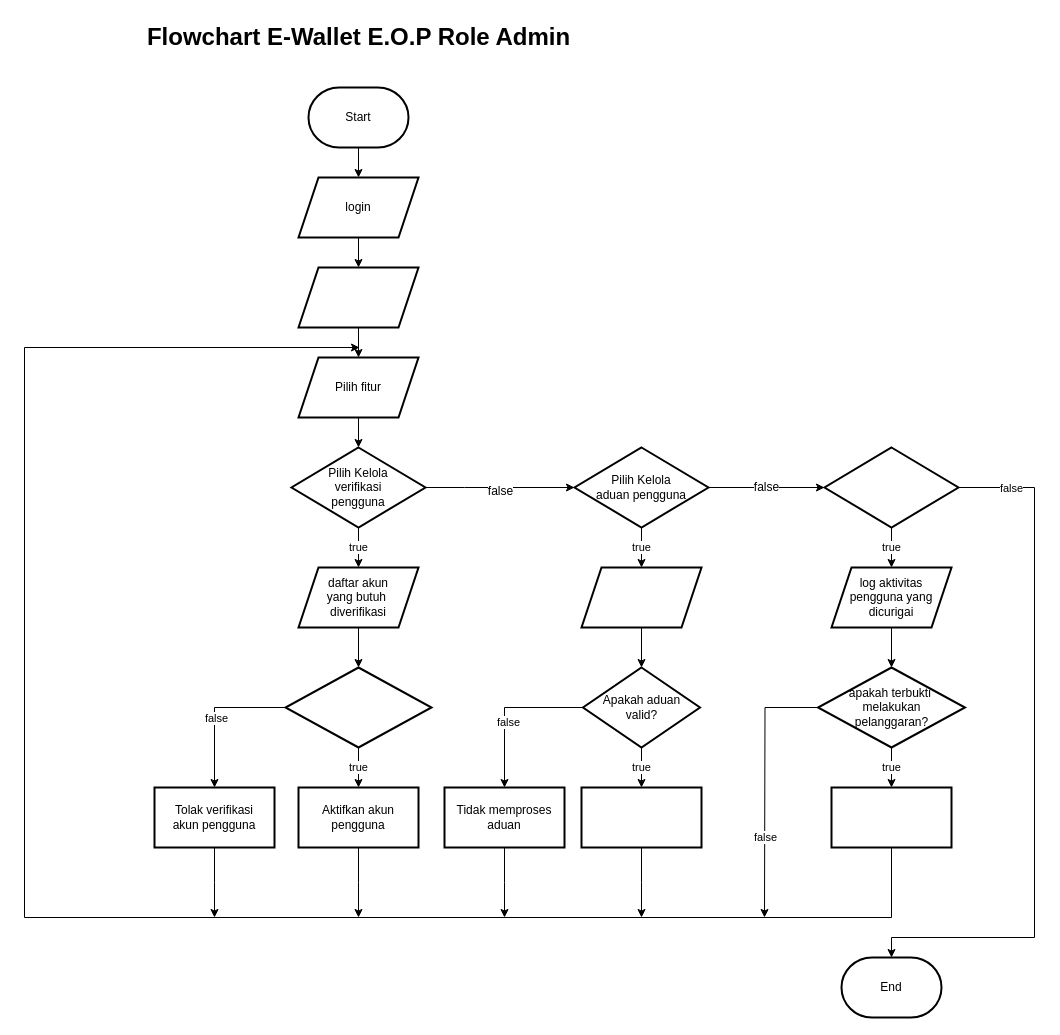
The diagram is 1060 pixels wide and 1035 high, and some of its shapes have lost their labels. Each missing label, with the centre of its shape:
Apakah akun tersebut lolos kriteria?: (x=358, y=707)
daftar aduan pengguna: (x=641, y=597)
Dashboard Admin: (x=358, y=297)
Pilih Kelola Keamanan: (x=891, y=487)
Proses Aduan: (x=641, y=817)
Suspend akun: (x=891, y=817)
